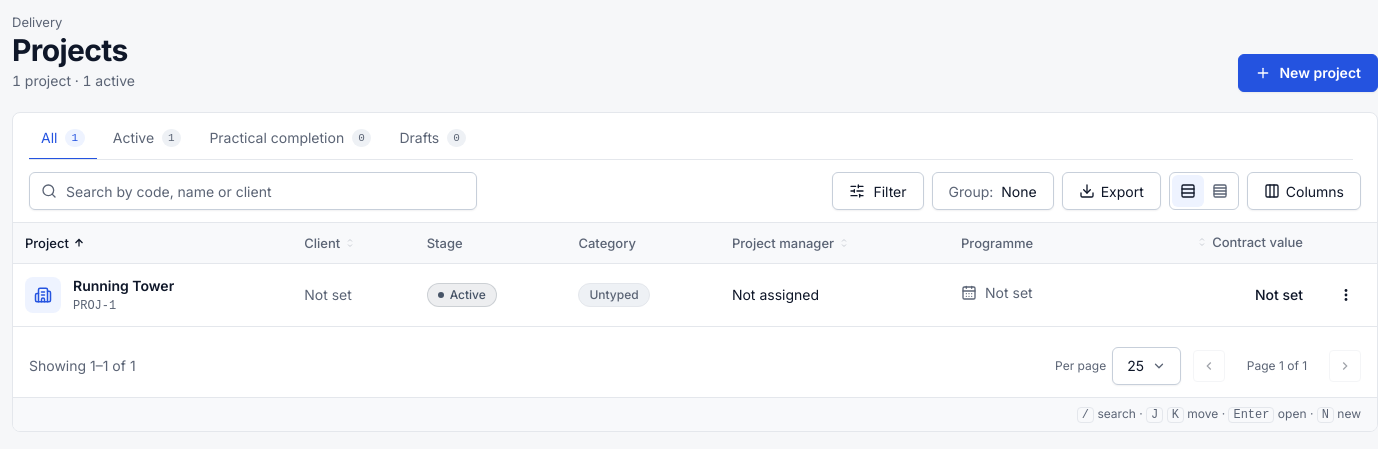
Test: ProjectsList › offers Edit only on a project the domain will actually let you edit
Click the button named "Actions for Running Tower": (1346, 294) [1327,276,1365,314]
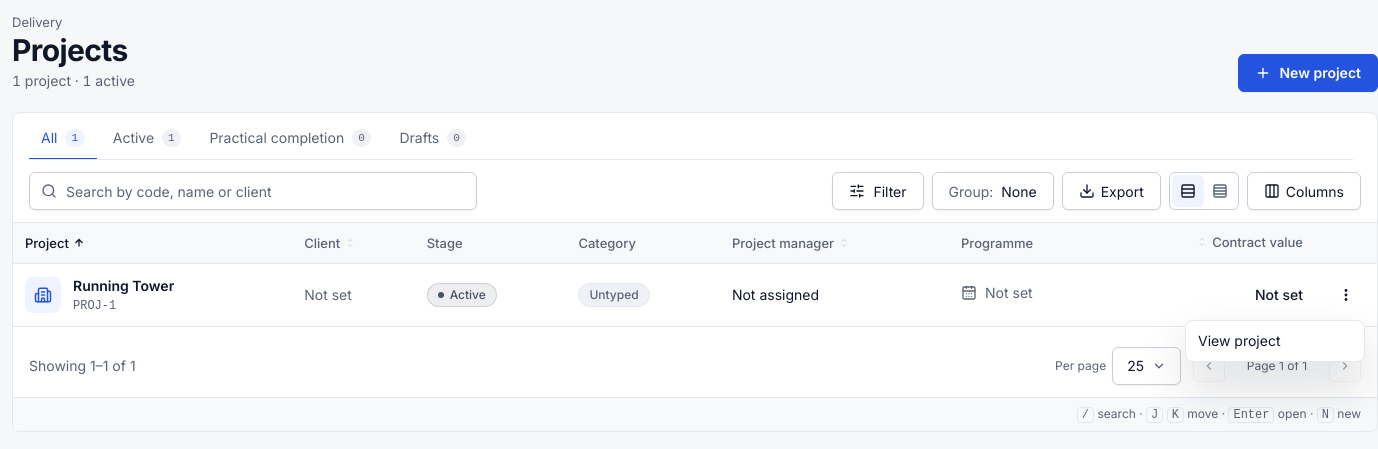
Result: the menu item "View project" is shown at [1198,332,1280,349]
